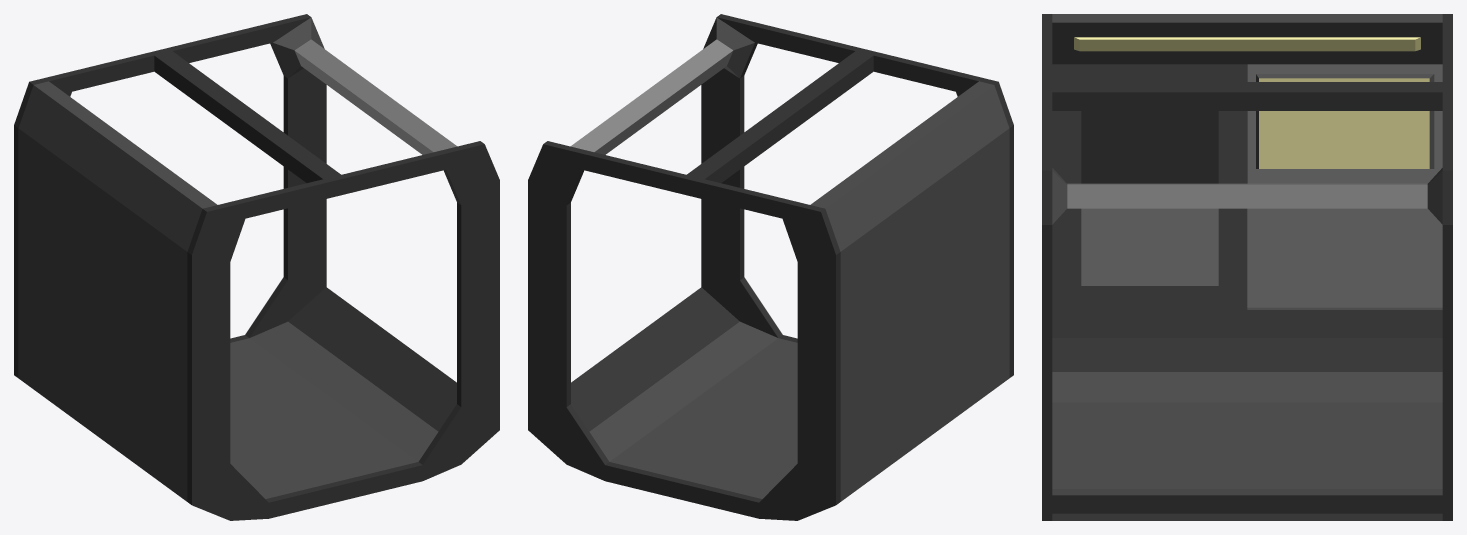
The model's file is Tile_4.fbx.
The picture shows the model from 3 angles, left to right: view 1: azimuth 30°, elevation 25°; view 2: azimuth 150°, elevation 25°; view 3: azimuth 270°, elevation 25°; orthographic projection. The views are drawn at different scales.
Visible parts, largest first — view 1: Tile4; view 2: Tile4; view 3: Tile4.
Part boxes in pixels (x1,y1,x2,y2): Tile4: (14,14,499,520); Tile4: (528,14,1013,520); Tile4: (1042,14,1452,520).
Size of the model in its own units: 200 by 200 by 200.
